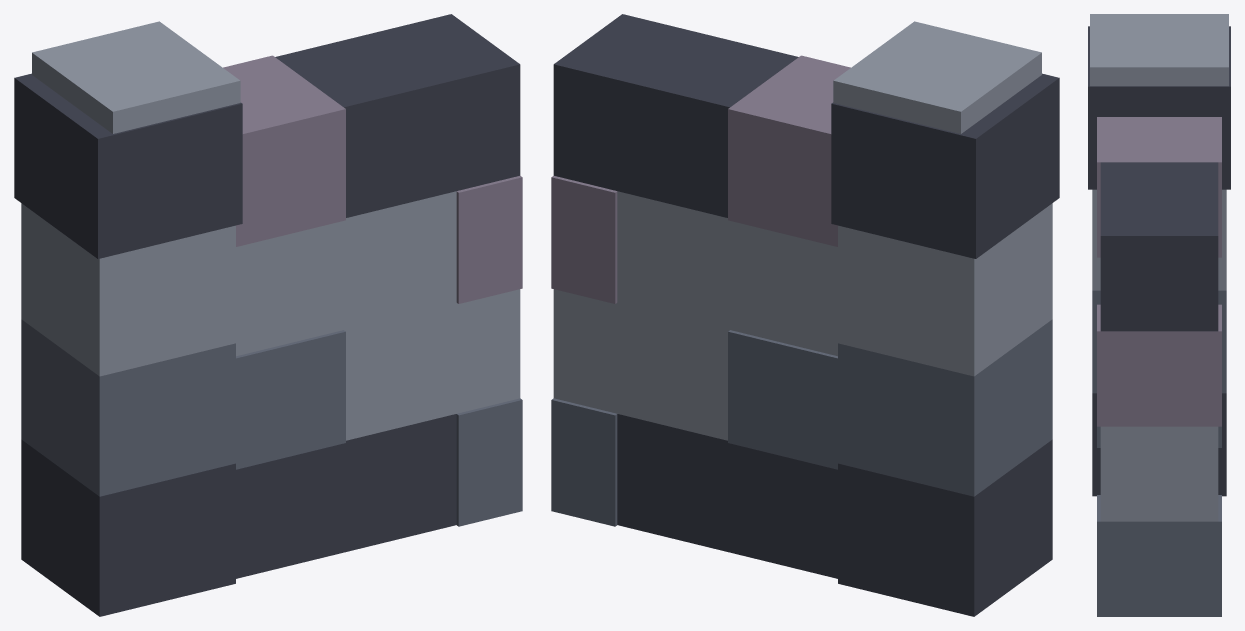
The model's file is TW_STONE_WALL_1M_B_LOD0.glb.
3 renders of one model, left to right at view 1: azimuth 30°, elevation 25°; view 2: azimuth 150°, elevation 25°; view 3: azimuth 270°, elevation 25°, orthographic. The views are drawn at different scales.
Visible parts, largest first — view 1: TW_STONE_WALL_1M_B_LOD0; view 2: TW_STONE_WALL_1M_B_LOD0; view 3: TW_STONE_WALL_1M_B_LOD0.
Part boxes in pixels (box(x1,y1,x2,y2)): TW_STONE_WALL_1M_B_LOD0: box(14, 14, 522, 616); TW_STONE_WALL_1M_B_LOD0: box(551, 14, 1059, 616); TW_STONE_WALL_1M_B_LOD0: box(1088, 14, 1230, 616).
Bounding box in the file's own units: 1.01 × 1.13 × 0.34.
1 material, 1 textured.
